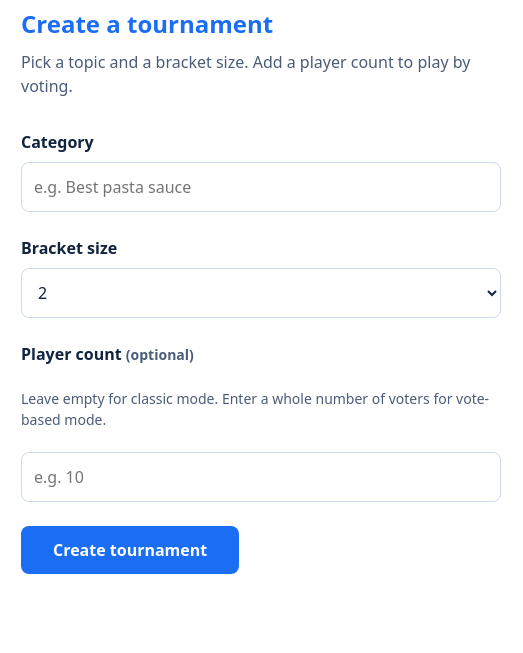
Scenario: CreateScreen player-count validation › blocks creation and preserves the other fields when player count is invalid
Type "Best pasta sauce" into the field labelled "Category" at [261, 187], box [21,162,501,212]
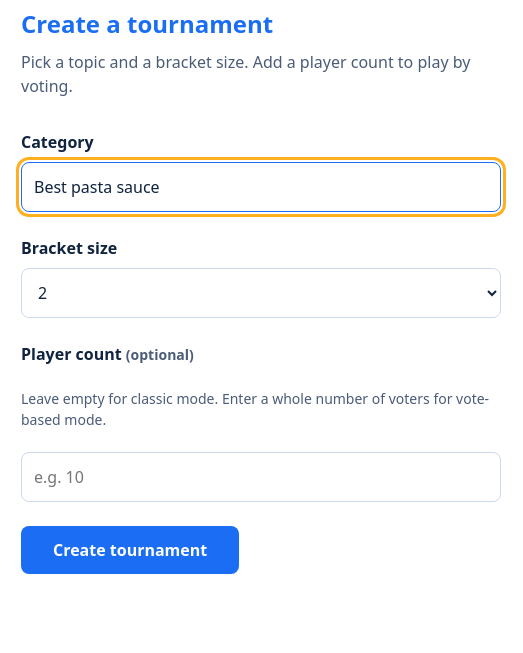
Select "8" in the dropdown labelled "Bracket size" at [261, 293], box [21,268,501,318]
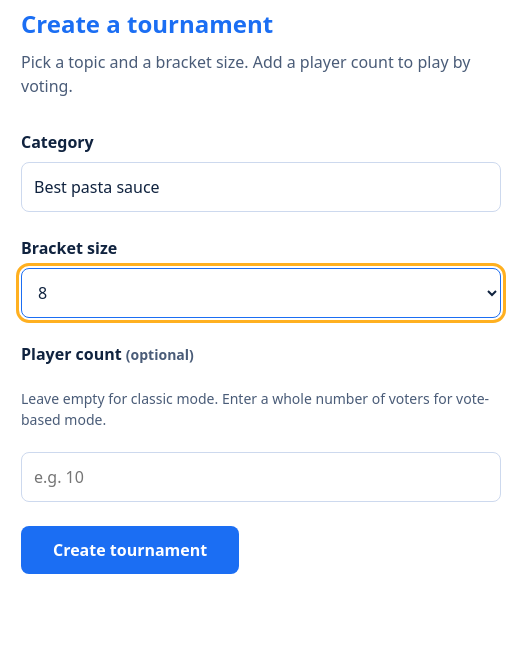
Type "3.5" into the field labelled "Player count (optional)" at [261, 477], box [21,452,501,502]
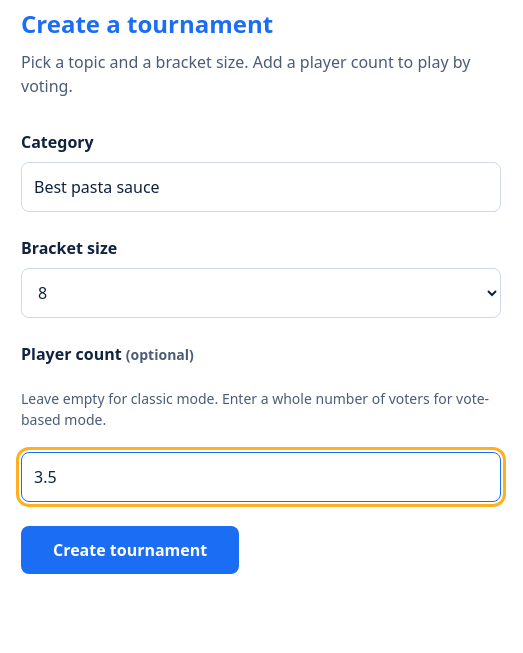
Click the button "Create tournament" at [130, 550], box [21,526,239,574]
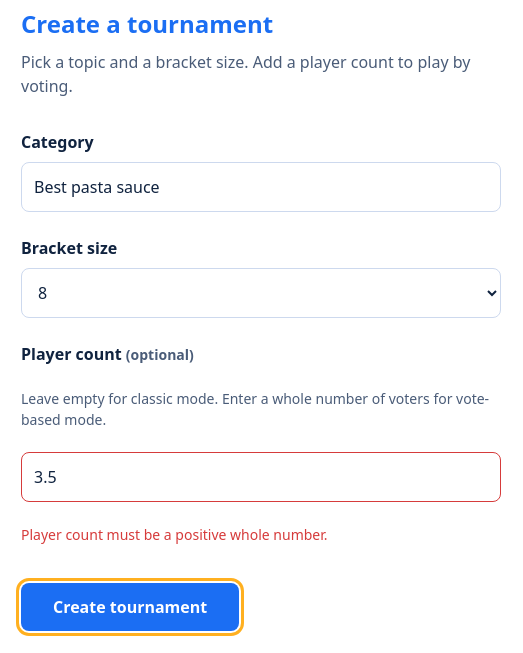
Expected: the message shows "positive whole number", [21,525,328,544]
